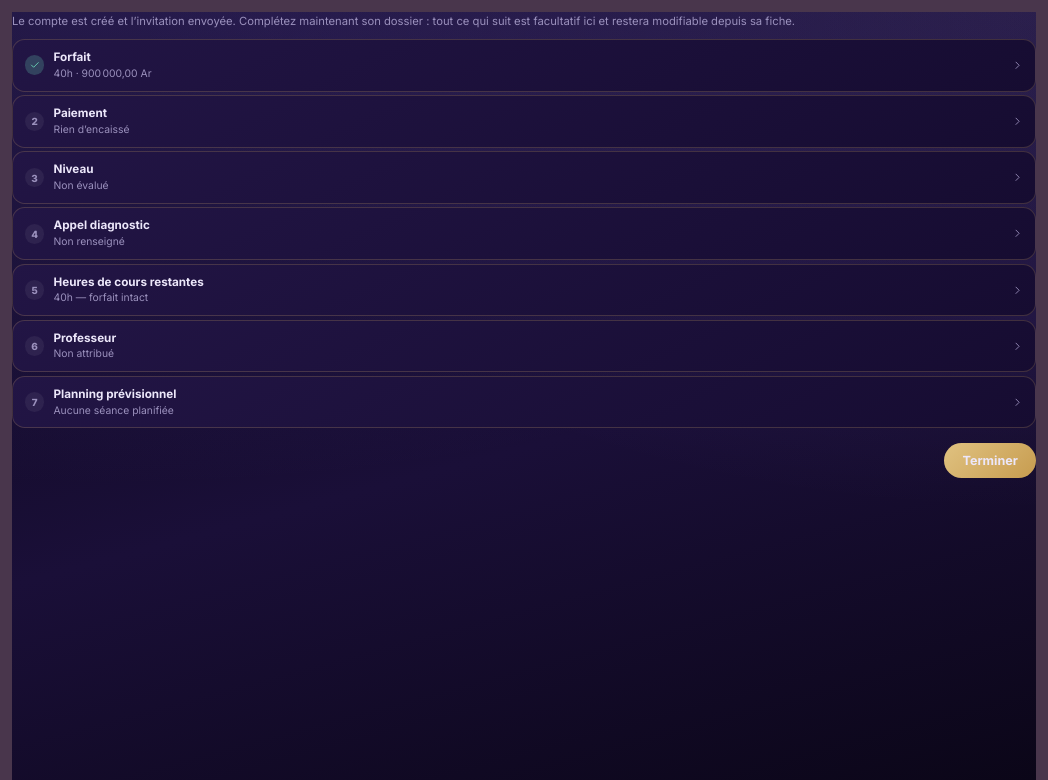
CompleterDossierEtudiant › n’envoie rien quand le forfait est intact
Step 1. Click the button "5 Heures de cours restantes 40h — forfait intact" → point(129, 282), box [13, 265, 1035, 315]
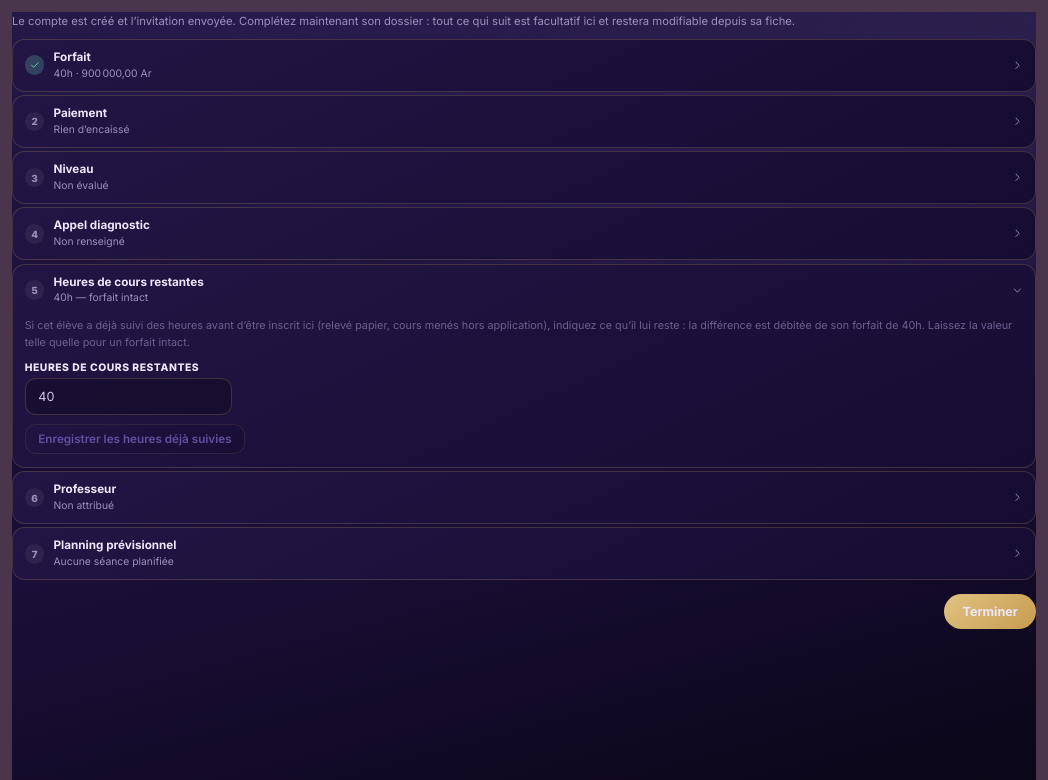
Check: the button "Enregistrer les heures déjà suivies" is disabled, box [25, 424, 245, 454]
